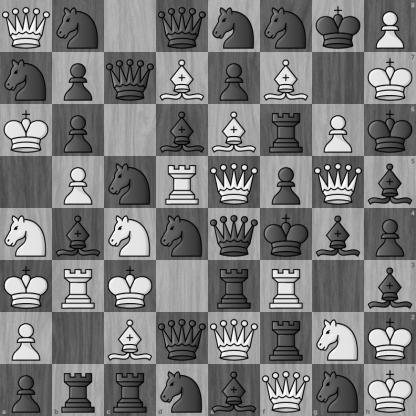B: (105, 313, 156, 364), (157, 53, 208, 104), (209, 105, 260, 156), (261, 53, 312, 104)
K: (364, 52, 416, 104), (364, 312, 416, 364), (364, 364, 416, 416), (1, 105, 52, 156), (1, 261, 52, 312), (105, 261, 156, 312)
N: (1, 209, 52, 260), (105, 209, 156, 260), (313, 313, 364, 364)
P: (364, 0, 416, 52), (1, 313, 52, 364), (53, 157, 104, 208), (313, 105, 364, 156)
Q: (260, 364, 312, 416), (1, 1, 52, 52), (209, 157, 260, 208), (209, 313, 260, 364), (313, 157, 364, 208)
R: (53, 261, 104, 312), (157, 157, 208, 208), (261, 261, 312, 312)
b: (364, 156, 416, 209), (364, 260, 416, 312), (209, 364, 260, 416), (53, 209, 104, 260), (157, 105, 208, 156), (313, 209, 364, 260)
board: (0, 0, 415, 415)
k: (364, 104, 416, 156), (261, 209, 312, 260), (313, 1, 364, 52)
n: (156, 364, 209, 416), (312, 364, 364, 416), (1, 53, 52, 104), (53, 1, 104, 52), (105, 157, 156, 208), (157, 209, 208, 260), (209, 1, 260, 52), (261, 1, 312, 52)
p: (0, 364, 52, 416), (364, 209, 416, 260), (53, 53, 104, 104), (53, 105, 104, 156), (209, 53, 260, 104), (261, 157, 312, 208)
q: (105, 53, 156, 104), (157, 1, 208, 52), (157, 313, 208, 364), (209, 209, 260, 260)
r: (52, 364, 104, 416), (104, 364, 156, 416), (209, 261, 260, 312), (261, 105, 312, 156), (261, 313, 312, 364)
